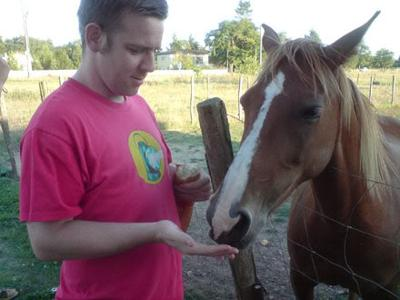person: (20, 1, 238, 300)
